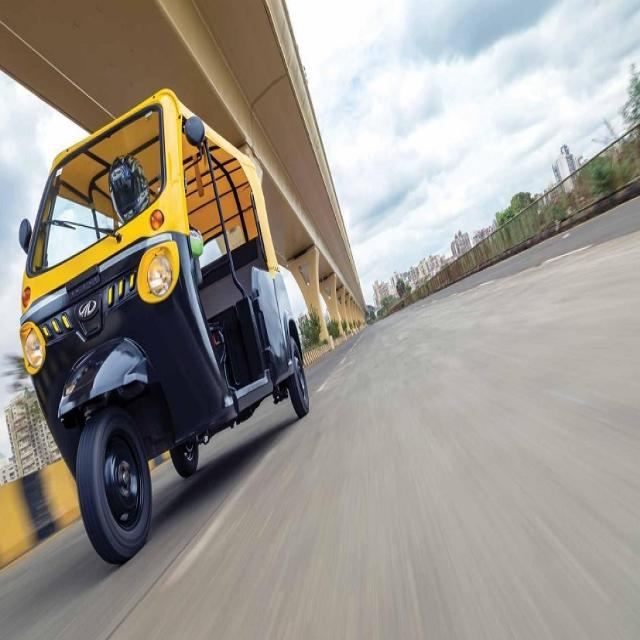autorickshaw: (20, 88, 309, 563)
